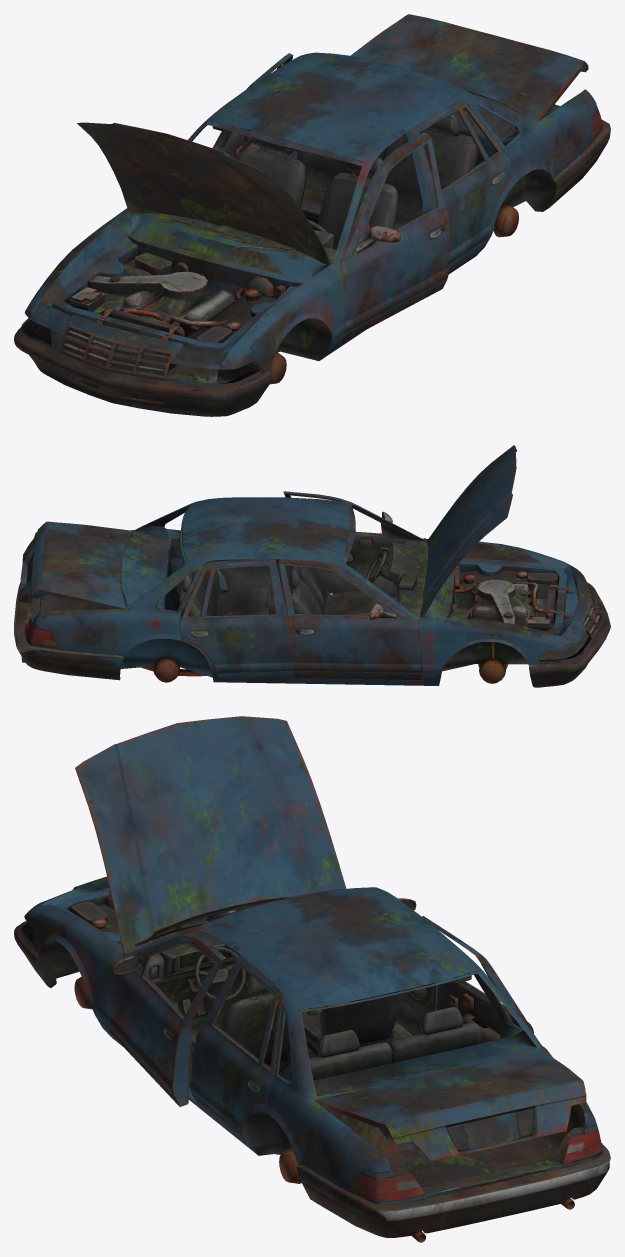
The model's file is vrak_sedan.glb.
The picture shows the model from 3 angles, top to bottom: view 1: azimuth 30°, elevation 25°; view 2: azimuth 150°, elevation 25°; view 3: azimuth 270°, elevation 25°; orthographic projection. The views are drawn at different scales.
Parts seen in each view (by area): view 1: Bottom_0, Hood_3, Trunkdoor_4, Door_FR_inner.001_13, Seats_9, Bumper_front_inner_12, Engine_6, Door_RR.001_14, Dashboard_7, Bumper_rear_1, SUSPENSION_5, Door_RR_11; view 2: Bottom_0, Door_FR_inner_10, Door_RR_11, Trunkdoor_4, Hood_3, Seats_9, Engine_6, Door_FR_inner.001_13, Bumper_rear_1, Dashboard_7, Bumper_front_inner_12, SUSPENSION_5 (+2 smaller); view 3: Bottom_0, Hood_3, Trunkdoor_4, Seats_9, Bumper_rear_1, Door_FR_inner.001_13, Door_RR.001_14, Door_RR_11, Dashboard_7, Stoplights_glass_2, Door_FR_inner_10, SUSPENSION_5 (+2 smaller).
Boxes of the visible parts, <box> form: Bottom_0: <box>21,52,602,386</box>; Hood_3: <box>77,122,332,266</box>; Trunkdoor_4: <box>350,14,588,121</box>; Door_FR_inner.001_13: <box>339,132,449,343</box>; Seats_9: <box>238,114,479,250</box>; Bumper_front_inner_12: <box>14,320,271,416</box>; Engine_6: <box>69,252,286,342</box>; Door_RR.001_14: <box>410,101,511,270</box>; Dashboard_7: <box>144,213,336,261</box>; Bumper_rear_1: <box>549,104,610,207</box>; SUSPENSION_5: <box>168,203,518,384</box>; Door_RR_11: <box>224,53,293,159</box>; Bottom_0: <box>25,497,603,685</box>; Door_FR_inner_10: <box>278,559,422,679</box>; Door_RR_11: <box>179,559,293,680</box>; Trunkdoor_4: <box>18,521,132,608</box>; Hood_3: <box>420,445,516,617</box>; Seats_9: <box>179,557,374,616</box>; Engine_6: <box>449,566,557,631</box>; Door_FR_inner.001_13: <box>283,491,423,597</box>; Bumper_rear_1: <box>14,583,124,680</box>; Dashboard_7: <box>380,540,428,616</box>; Bumper_front_inner_12: <box>528,582,610,687</box>; SUSPENSION_5: <box>21,598,508,683</box>; Bottom_0: <box>20,876,602,1233</box>; Hood_3: <box>75,716,346,954</box>; Trunkdoor_4: <box>314,1050,586,1161</box>; Seats_9: <box>190,975,483,1080</box>; Bumper_rear_1: <box>296,1143,610,1237</box>; Door_FR_inner.001_13: <box>106,935,226,1106</box>; Door_RR.001_14: <box>190,955,285,1142</box>; Door_RR_11: <box>421,916,533,1042</box>; Dashboard_7: <box>129,926,262,1015</box>; Stoplights_glass_2: <box>350,1126,602,1201</box>; Door_FR_inner_10: <box>396,898,433,1035</box>; SUSPENSION_5: <box>74,976,574,1242</box>.
Bounding box in the file's own units: 4.8 × 1.68 × 3.51.
Materials: 1 (1 with a texture image).
